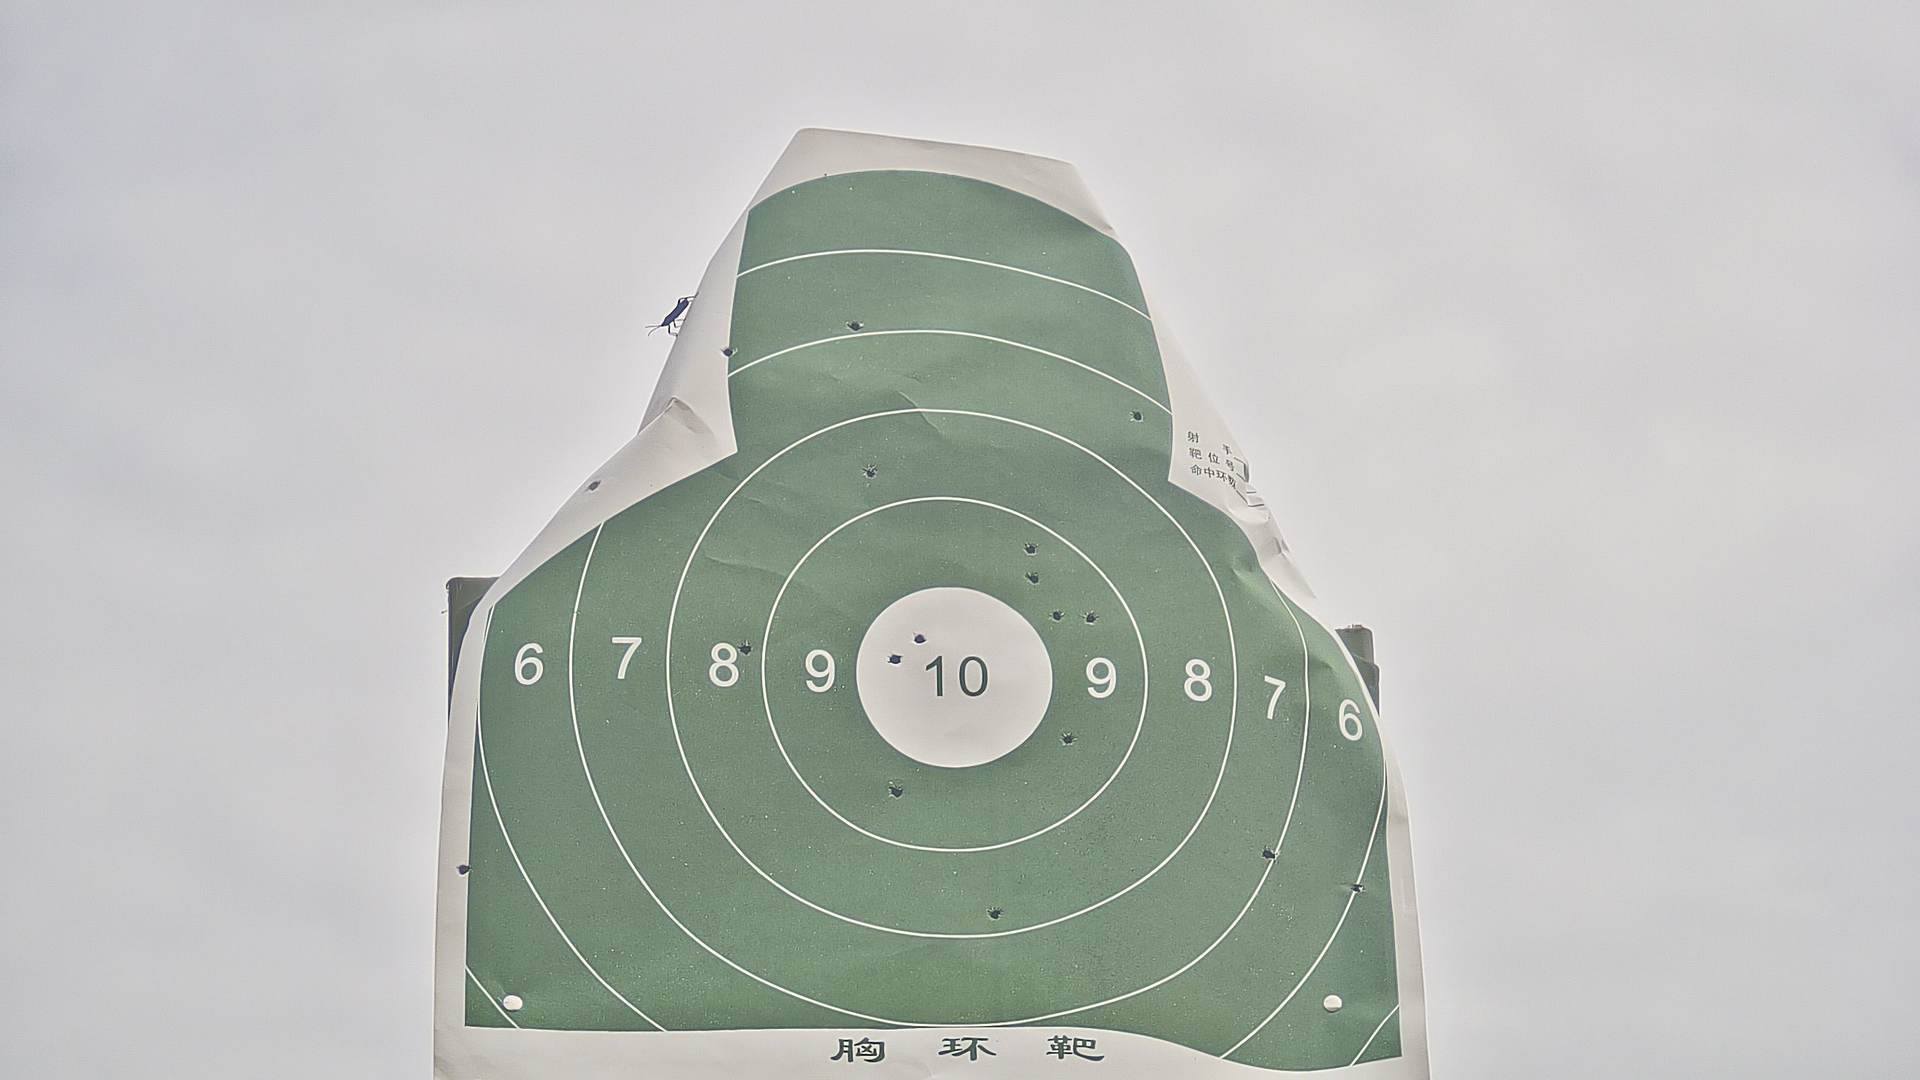hole: (455, 862, 473, 877), (1263, 847, 1279, 862), (887, 651, 903, 666), (585, 479, 603, 492), (1352, 882, 1365, 897), (1027, 572, 1040, 585), (889, 785, 902, 798), (848, 320, 862, 332), (1131, 410, 1145, 422), (865, 465, 876, 480), (1026, 543, 1038, 555), (738, 642, 752, 653), (1087, 611, 1097, 624), (986, 909, 1000, 919), (1062, 732, 1073, 742), (1052, 609, 1062, 622), (723, 347, 735, 356), (914, 633, 924, 642)
kernel: (949, 676, 952, 683)
target: (464, 170, 1402, 1076)
ten: (853, 584, 1052, 764)
